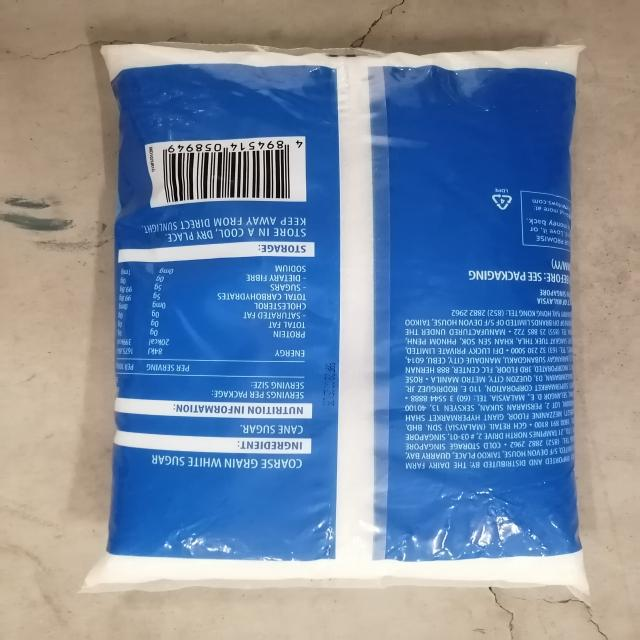object_name: (106, 48, 565, 582)
